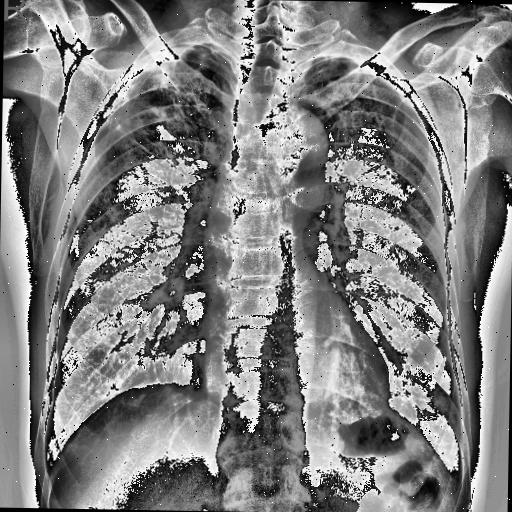0- Aortic enlargement: (216, 101, 336, 228)
11- Pleural thickening: (99, 50, 439, 220), (130, 40, 201, 82)
13- Pulmonary fibrosis: (99, 50, 439, 220), (108, 41, 232, 182), (302, 66, 416, 184), (77, 219, 177, 295)
2- Calcification: (108, 41, 232, 182)
5- ILD: (99, 50, 439, 220)
6- Infiltration: (108, 41, 232, 182), (302, 66, 416, 184), (110, 38, 222, 140), (303, 44, 399, 140)
7- Lung Opacity: (302, 66, 416, 184)
8- Nodule-Mass: (99, 50, 439, 220)
9- Other lesion: (99, 50, 439, 220), (77, 219, 177, 295)
